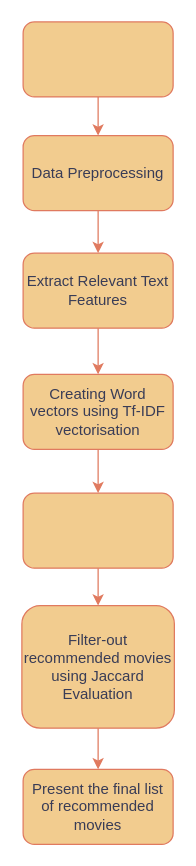
The diagram is 196 pixels wide and 866 high, and some of its shapes have lost their labels. Each missing label, with the box of its shape:
Create a user profile: (22, 21, 173, 97)
Find out similar movies using Cosine Similarity: (22, 492, 173, 568)
